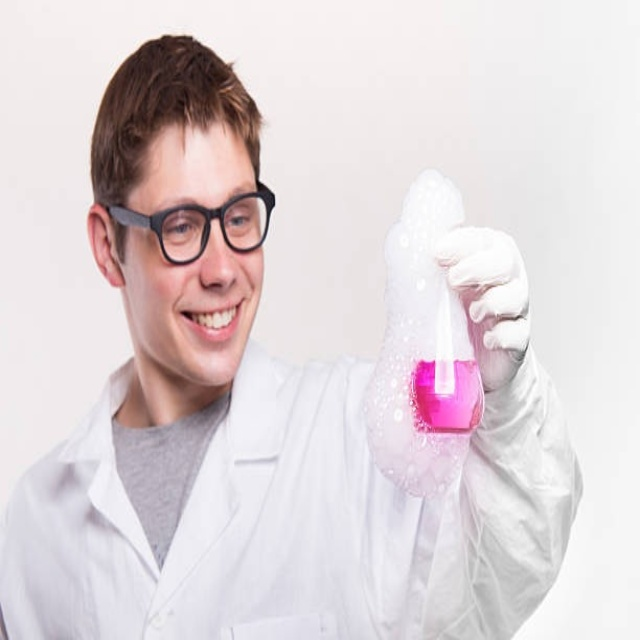Gafas: (108, 182, 276, 265)
Guantes: (434, 223, 532, 384)
Sin_mascara: (168, 290, 249, 355)
